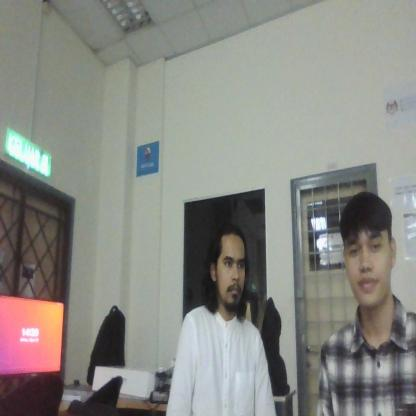Open-Eyes: (346, 232, 389, 264), (221, 246, 249, 276)
